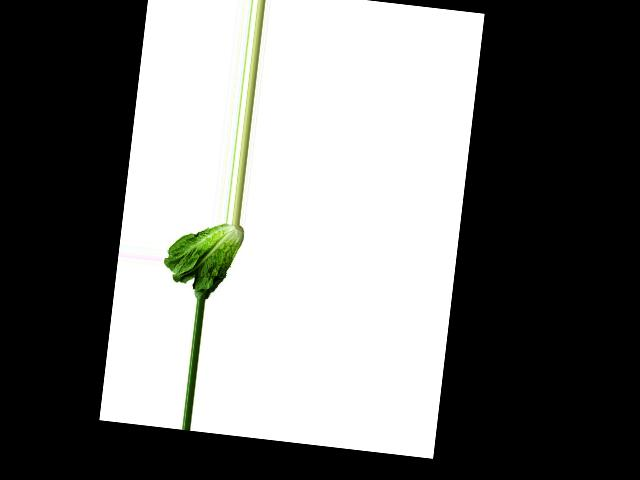lettuce: (159, 217, 245, 301)
